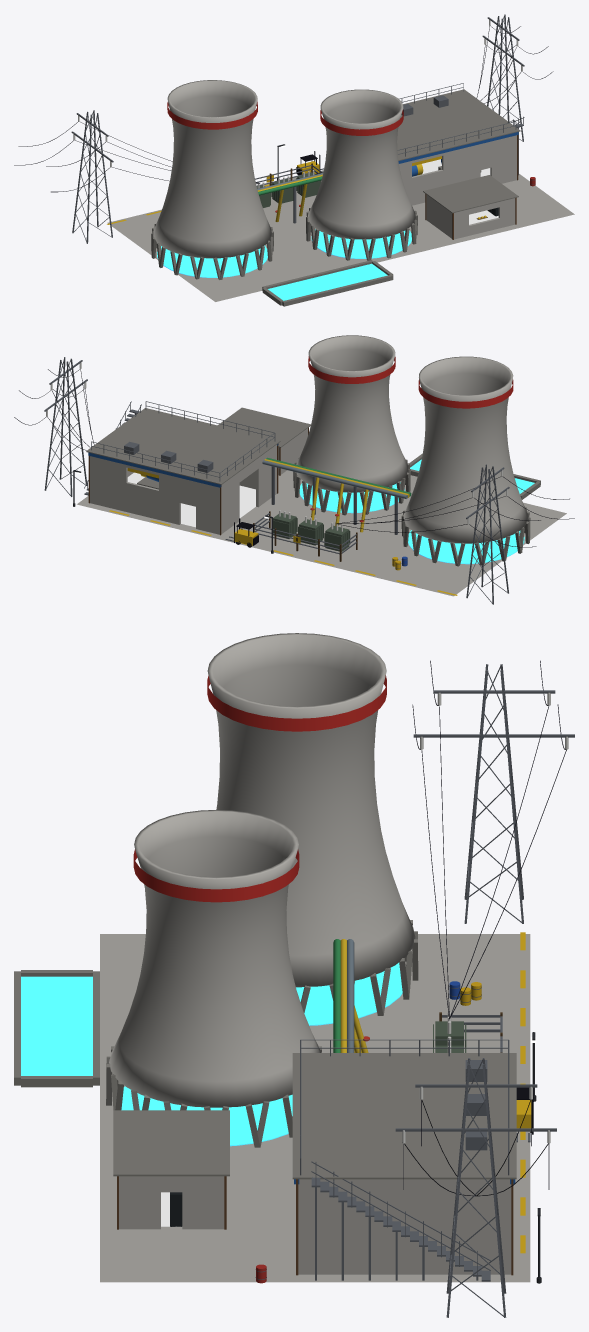
Rendered from tf-plant-p5.glb.
3 views of the same model, one above another, from view 1: azimuth 30°, elevation 25°; view 2: azimuth 150°, elevation 25°; view 3: azimuth 270°, elevation 25° (orthographic). The views are drawn at different scales.
Visible parts, largest first — view 1: tf-plant-p5; view 2: tf-plant-p5; view 3: tf-plant-p5.
Part boxes in pixels (left/top/right/bottom): tf-plant-p5: left=14, top=14, right=574, bottom=306; tf-plant-p5: left=14, top=335, right=574, bottom=604; tf-plant-p5: left=14, top=633, right=574, bottom=1317.
Bounding box in the file's own units: 64.01 × 19.05 × 31.3.
